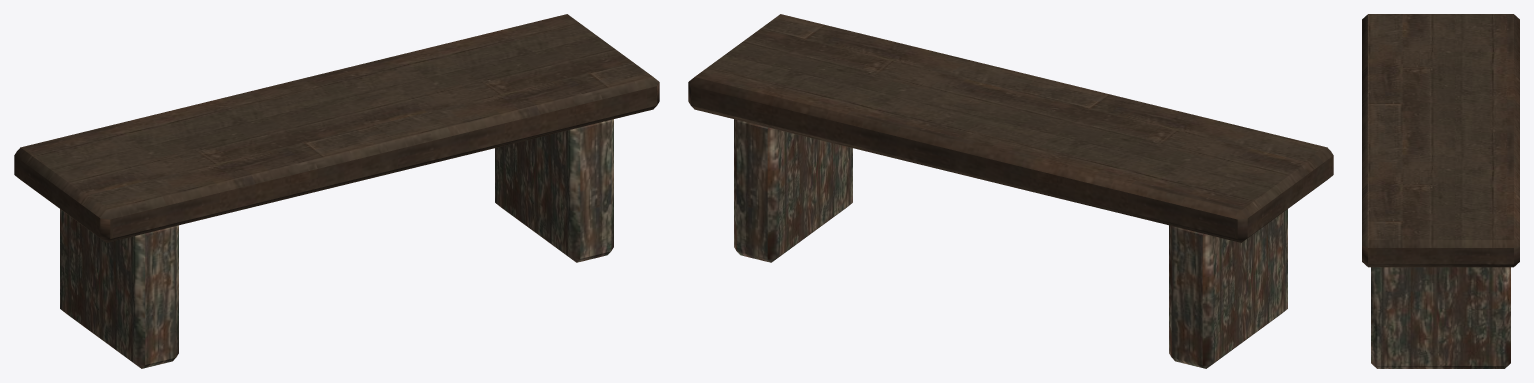
File: prop_bench.glb
3 views of the same model, side by side, from view 1: azimuth 30°, elevation 25°; view 2: azimuth 150°, elevation 25°; view 3: azimuth 270°, elevation 25° (orthographic). The views are drawn at different scales.
Visible parts, largest first — view 1: PROP_Bench; view 2: PROP_Bench; view 3: PROP_Bench.
Boxes of the visible parts, x1=… form: PROP_Bench: x1=14, y1=14, x2=659, y2=368; PROP_Bench: x1=688, y1=14, x2=1333, y2=368; PROP_Bench: x1=1362, y1=14, x2=1519, y2=368.
Size of the model in its own units: 1.8 by 0.53 by 0.52.
Materials: 2 (2 with a texture image).
